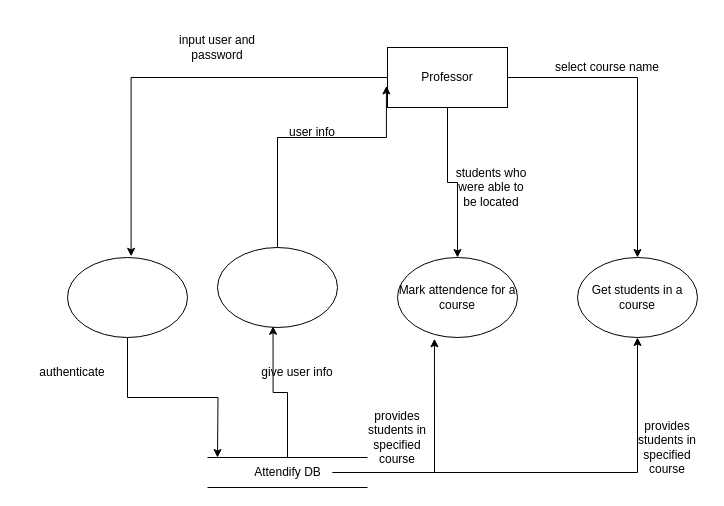
Some shapes in this 724 by 506 pixel diagram are drawn without their labels. Here are the shapes that lost their labels. From the top down, the centre of each, then its label:
At (127,297): "Log in".
At (277,287): "Get list of professor's current courses".
